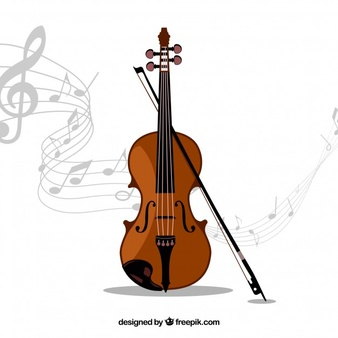Fiddle: (122, 38, 273, 307)
